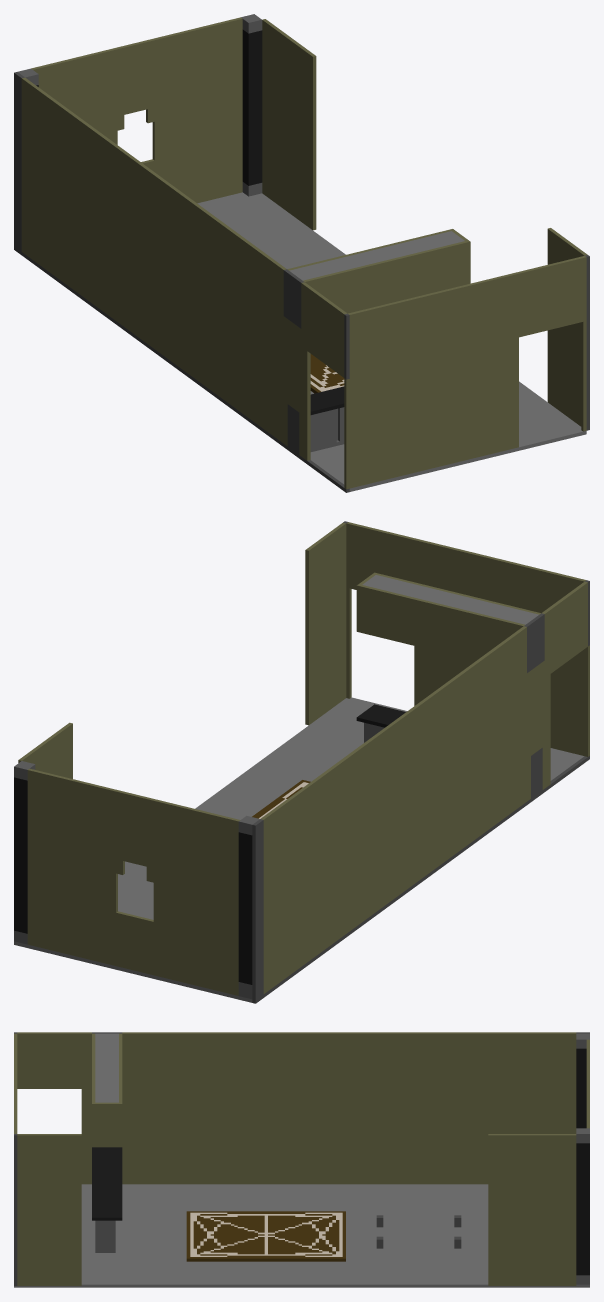
The model's file is BedroomandMainRoom-6.obj.
3 renders of one model, top to bottom at view 1: azimuth 30°, elevation 25°; view 2: azimuth 150°, elevation 25°; view 3: azimuth 270°, elevation 25°, orthographic. The views are drawn at different scales.
Bounding box in the file's own units: 7.2 × 5 × 17.
Materials: 1 (1 with a texture image).
